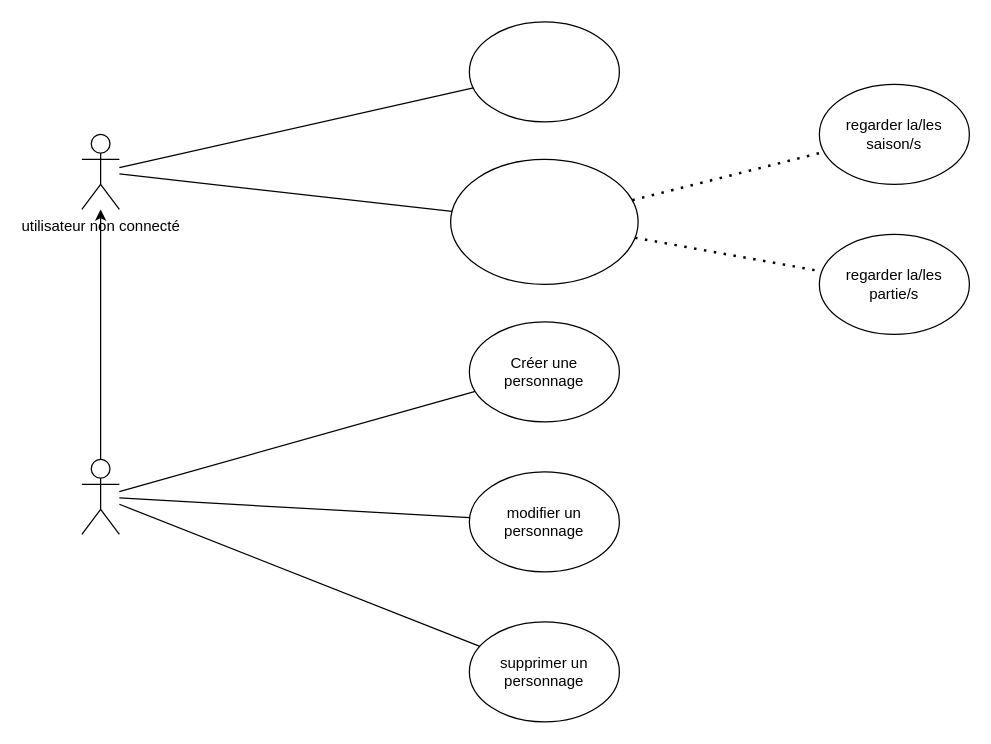
The diagram is 991 pixels wide and 744 high, and some of its shapes have lost their labels. The box of each missing label's shape, as (x1, y1, x2, y2) in pixels:
Créer un compte: (468, 21, 619, 122)
Regarder les infos sur les personnages: (449, 158, 638, 284)
utilisateur connecté: (81, 458, 119, 534)
